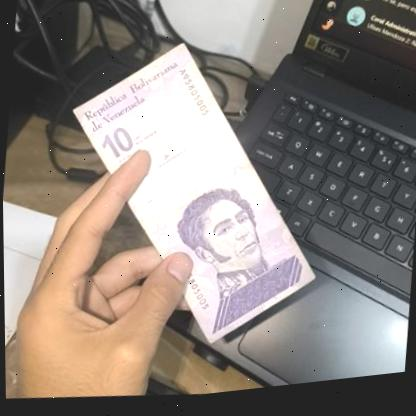ten-front-vef: (51, 24, 337, 371)
